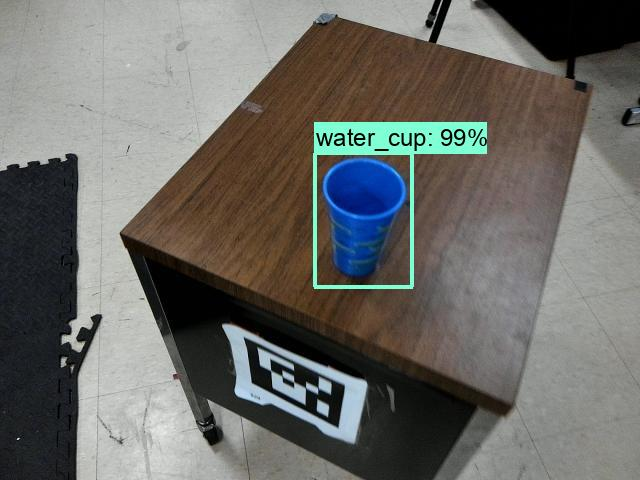water_cup: (319, 155, 413, 285)
